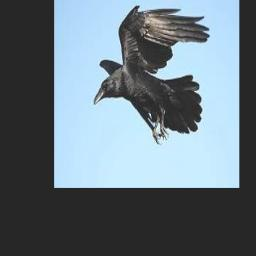Crow: (95, 4, 210, 145)
